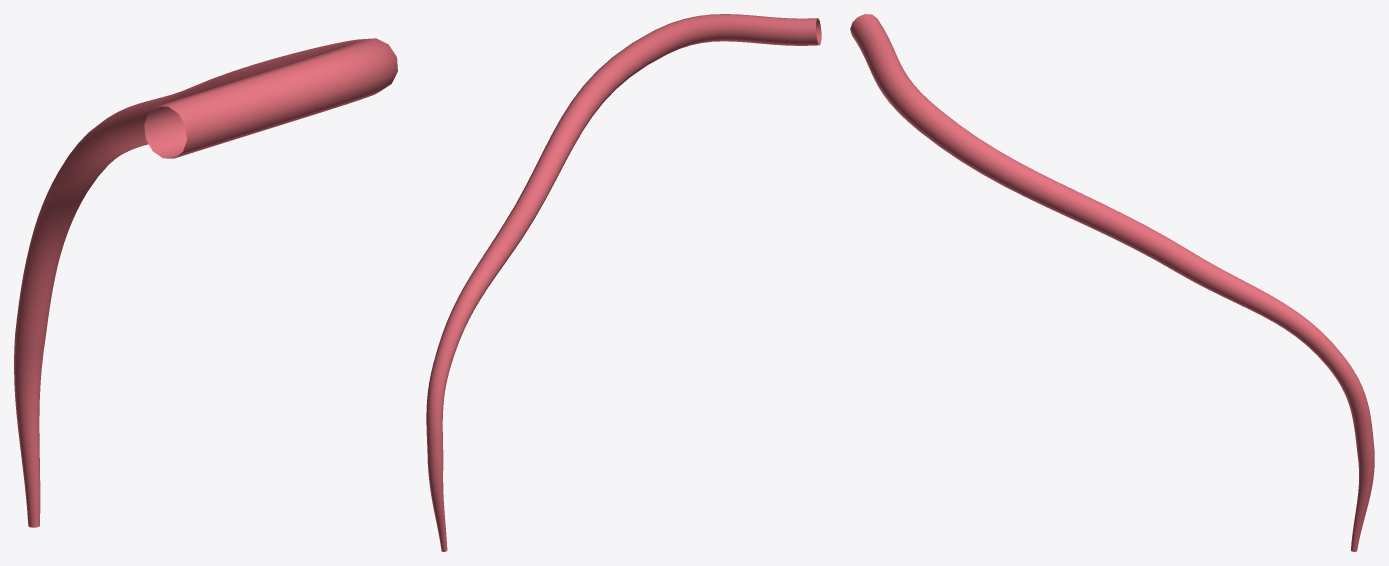
The picture shows the model from 3 angles, left to right: view 1: azimuth 30°, elevation 25°; view 2: azimuth 150°, elevation 25°; view 3: azimuth 270°, elevation 25°; orthographic projection. The views are drawn at different scales.
Parts seen in each view (by area): view 1: ZA_d74281b700274659; view 2: ZA_d74281b700274659; view 3: ZA_d74281b700274659.
Part boxes in pixels (x1=…): ZA_d74281b700274659: x1=14, y1=38, x2=397, y2=527; ZA_d74281b700274659: x1=426, y1=14, x2=821, y2=551; ZA_d74281b700274659: x1=850, y1=14, x2=1374, y2=551.
Bounding box in the file's own units: 0.0211 × 0.0459 × 0.048.
